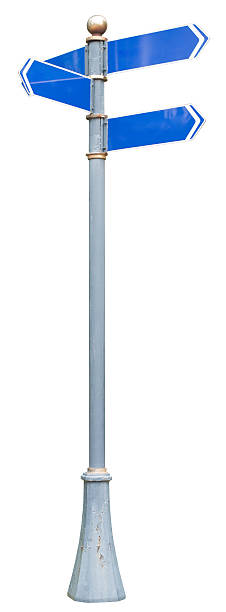light_pole: (76, 113, 120, 606)
